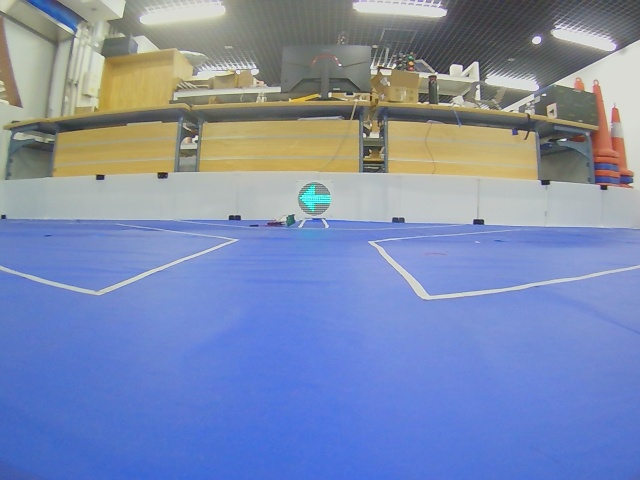left_green: (298, 182, 332, 216)
